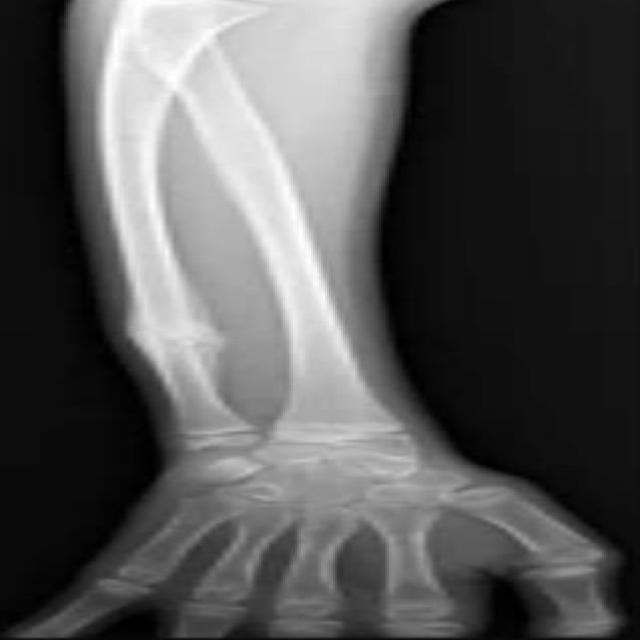bone: (97, 306, 260, 366)
